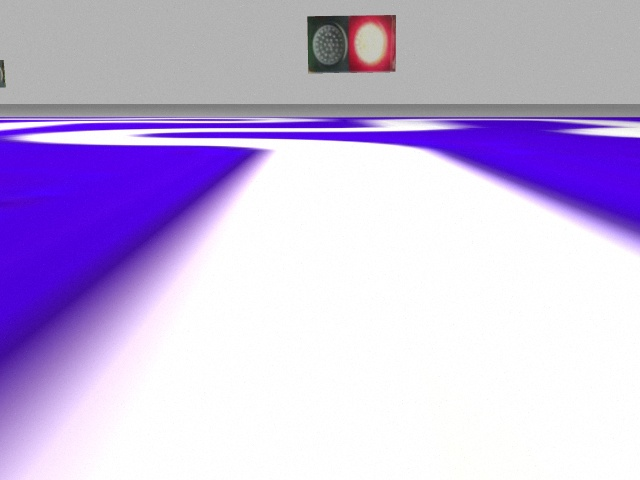red: (348, 14, 396, 73)
